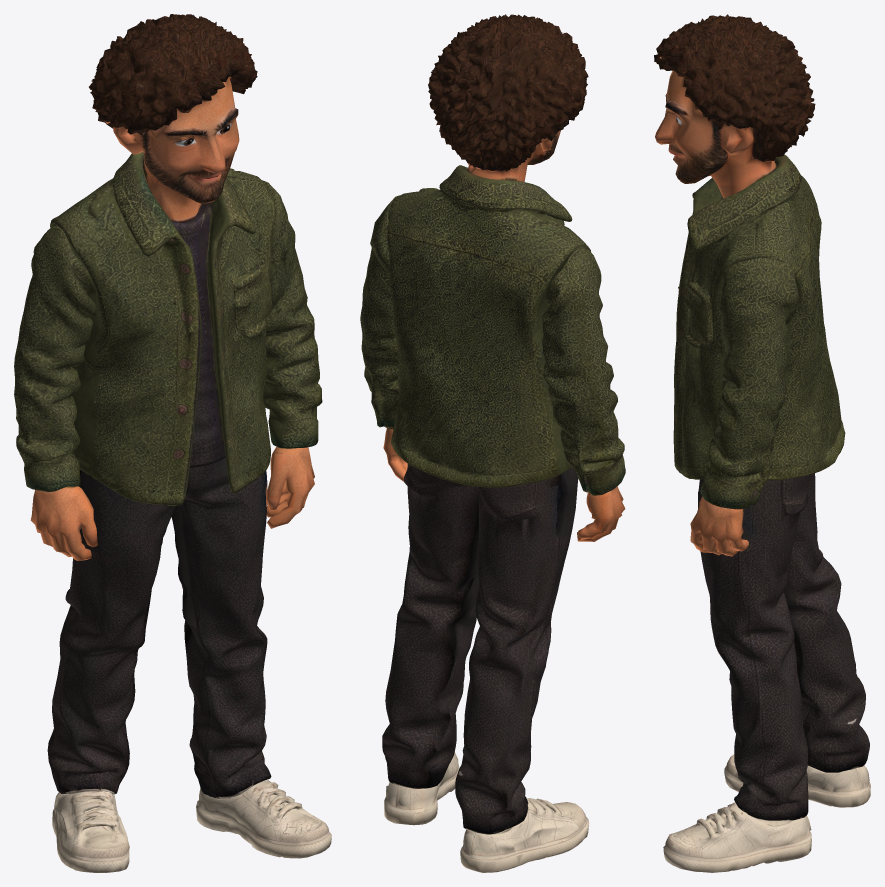
The model's file is charaf_segmented.glb.
3 renders of one model, left to right at view 1: azimuth 30°, elevation 25°; view 2: azimuth 150°, elevation 25°; view 3: azimuth 270°, elevation 25°, orthographic. The views are drawn at different scales.
Visible parts, largest first — view 1: tripo_part_8, tripo_part_1, tripo_part_0, tripo_part_4, tripo_part_6, tripo_part_5, tripo_part_3, tripo_part_7, tripo_part_9; view 2: tripo_part_1, tripo_part_8, tripo_part_0, tripo_part_4, tripo_part_6, tripo_part_3, tripo_part_5, tripo_part_7, tripo_part_9; view 3: tripo_part_1, tripo_part_8, tripo_part_0, tripo_part_6, tripo_part_5, tripo_part_3, tripo_part_9.
Boxes of the visible parts, x1,y1,x2,y2 form: tripo_part_8: [50, 152, 275, 505]; tripo_part_1: [47, 458, 271, 799]; tripo_part_0: [89, 14, 257, 222]; tripo_part_4: [14, 226, 95, 491]; tripo_part_6: [262, 180, 322, 448]; tripo_part_5: [196, 780, 331, 858]; tripo_part_3: [52, 791, 129, 872]; tripo_part_7: [30, 486, 97, 560]; tripo_part_9: [266, 446, 314, 528]; tripo_part_1: [382, 464, 578, 834]; tripo_part_8: [387, 165, 590, 487]; tripo_part_0: [428, 14, 588, 181]; tripo_part_4: [542, 247, 625, 495]; tripo_part_6: [360, 195, 399, 429]; tripo_part_3: [460, 798, 588, 872]; tripo_part_5: [384, 752, 459, 825]; tripo_part_7: [577, 486, 625, 541]; tripo_part_9: [383, 428, 407, 481]; tripo_part_1: [698, 473, 869, 820]; tripo_part_8: [673, 154, 845, 480]; tripo_part_0: [654, 14, 815, 198]; tripo_part_6: [700, 257, 799, 509]; tripo_part_5: [663, 802, 811, 872]; tripo_part_3: [724, 754, 870, 807]; tripo_part_9: [690, 496, 748, 556].
Bounding box in the file's own units: 0.3457 × 0.9809 × 0.2433.
Materials: 9 (9 with a texture image).
